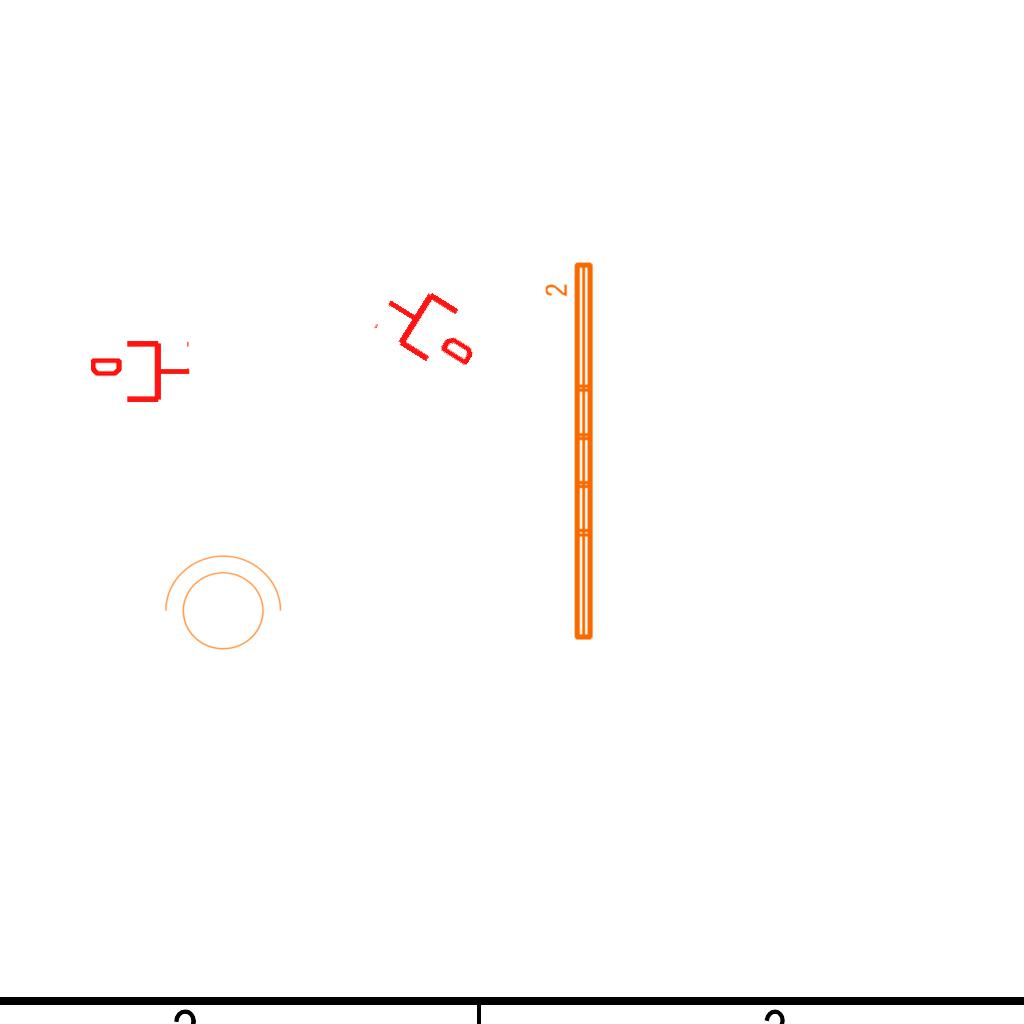Ambulanz_Pendelleuchte_LED: (543, 258, 599, 645)
Datenanschluss_einfach: (369, 272, 492, 384), (91, 337, 191, 406)
Scheinwerfer_fuer_Alarmbeleuchtung: (154, 550, 286, 662)
